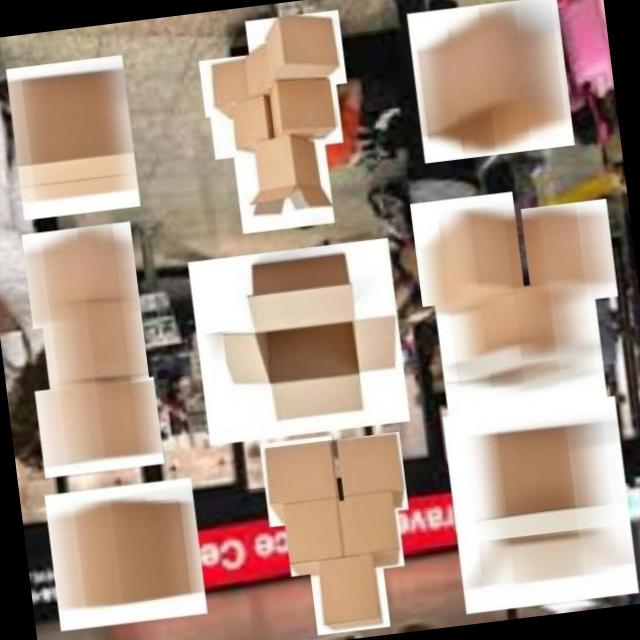box: (182, 234, 414, 448), (438, 391, 640, 616), (403, 0, 577, 165), (429, 274, 610, 427), (42, 474, 208, 632), (3, 51, 141, 222), (31, 373, 166, 480), (407, 188, 526, 308), (36, 284, 152, 406), (19, 219, 141, 330), (228, 122, 336, 235), (516, 195, 620, 308), (242, 7, 348, 95), (258, 432, 342, 528), (307, 550, 391, 636), (334, 428, 409, 518), (260, 75, 344, 152), (337, 491, 405, 574), (196, 50, 271, 119), (207, 93, 282, 160), (281, 503, 348, 578)
